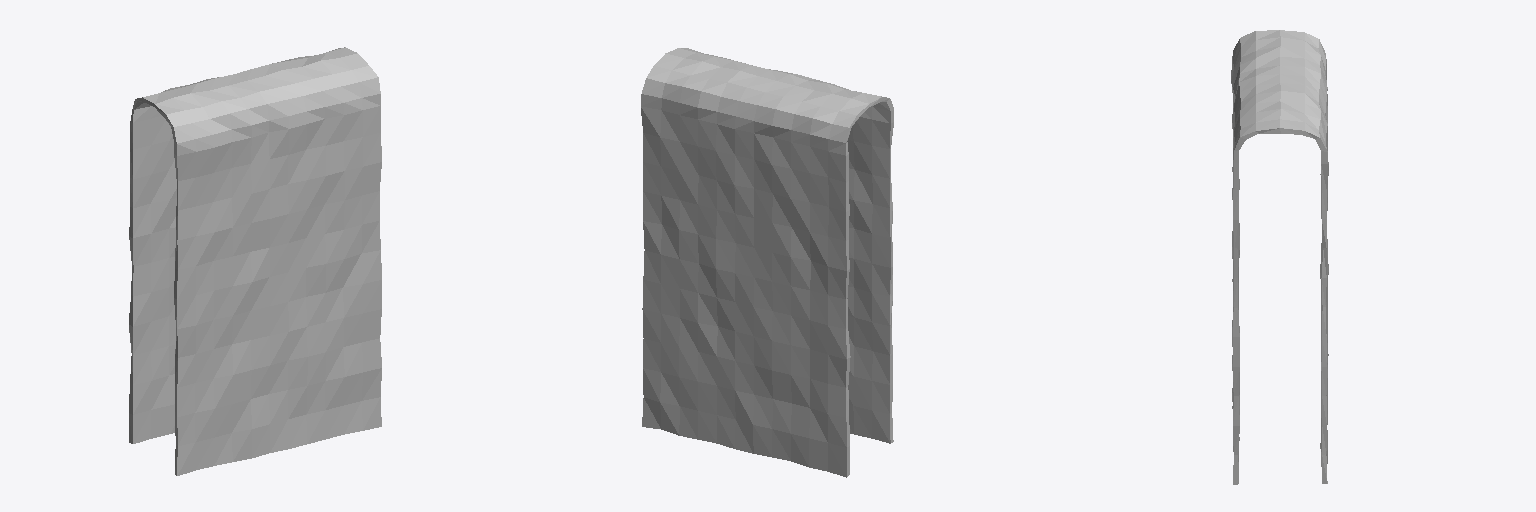
File: cloth1.obj
3 renders of one model, left to right at view 1: azimuth 30°, elevation 25°; view 2: azimuth 150°, elevation 25°; view 3: azimuth 270°, elevation 25°, orthographic.
Parts seen in each view (by area): view 1: Plane; view 2: Plane; view 3: Plane.
Boxes of the visible parts, x1,y1,x2,y2 form: Plane: [129, 47, 381, 475]; Plane: [641, 48, 893, 477]; Plane: [1231, 30, 1328, 484].
Size of the model in its own units: 2.02 by 3.35 by 0.8268.